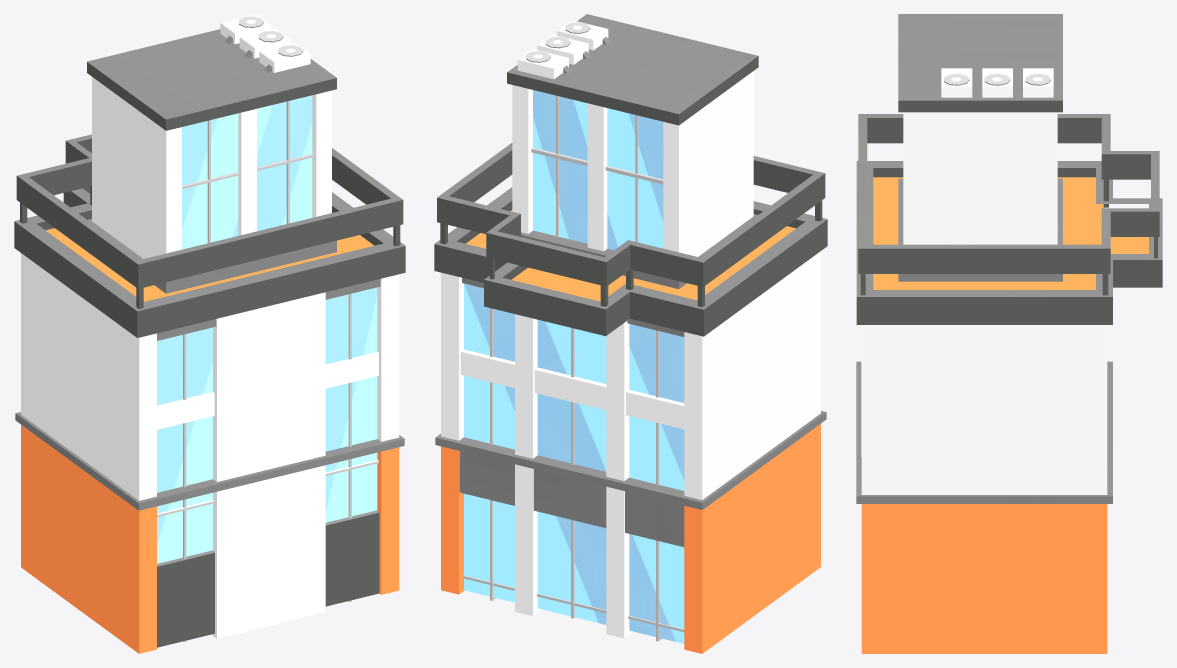
The model's file is hotel.003.glb.
3 views of the same model, side by side, from view 1: azimuth 30°, elevation 25°; view 2: azimuth 150°, elevation 25°; view 3: azimuth 270°, elevation 25° (orthographic). The views are drawn at different scales.
Parts seen in each view (by area): view 1: hotel.003(Clone); view 2: hotel.003(Clone); view 3: hotel.003(Clone).
Part boxes in pixels (box(x1,y1,x2,y2)): hotel.003(Clone): box(14, 14, 405, 653); hotel.003(Clone): box(434, 14, 827, 653); hotel.003(Clone): box(856, 14, 1162, 653).
Size of the model in its own units: 5.97 by 11.17 by 5.68.
Materials: 1 (1 with a texture image).
